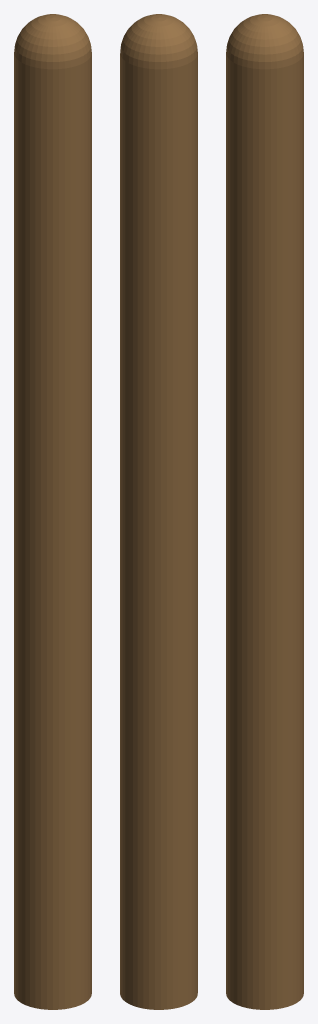
File: steam_3_mesh_c.dae
3 views of the same model, side by side, from view 1: azimuth 90°, elevation 25°; view 2: azimuth 210°, elevation 25°; view 3: azimuth 270°, elevation 25° (orthographic).
Visible parts, largest first — view 1: Cylinder.001; view 2: Cylinder.001; view 3: Cylinder.001.
Part boxes in pixels (bbox=[...]): Cylinder.001: bbox=[14, 14, 91, 1009]; Cylinder.001: bbox=[120, 14, 197, 1009]; Cylinder.001: bbox=[226, 14, 303, 1009].
Bounding box in the file's own units: 0.003 × 0.003 × 0.0415.
